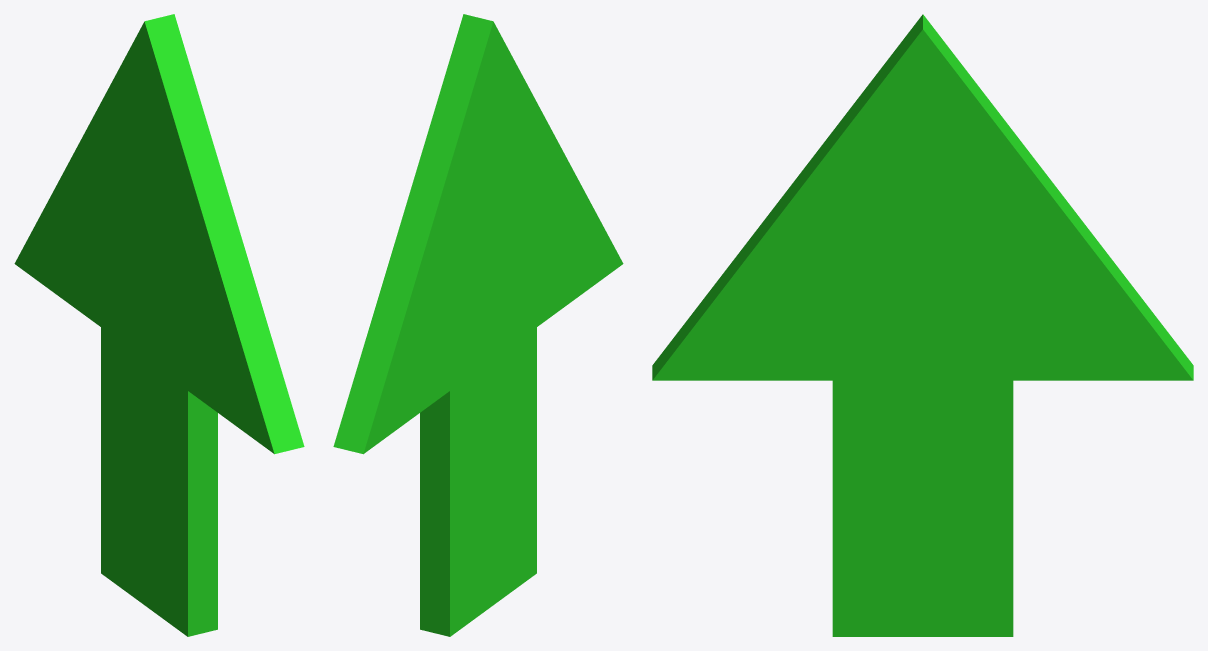
The model's file is green_arrow.glb.
3 views of the same model, side by side, from view 1: azimuth 30°, elevation 25°; view 2: azimuth 150°, elevation 25°; view 3: azimuth 270°, elevation 25° (orthographic). The views are drawn at different scales.
Parts seen in each view (by area): view 1: Cube.003; view 2: Cube.003; view 3: Cube.003.
Boxes of the visible parts, left/top/right/bottom form: Cube.003: left=14, top=14, right=304, bottom=636; Cube.003: left=333, top=14, right=623, bottom=636; Cube.003: left=652, top=14, right=1193, bottom=636.
Bounding box in the file's own units: 0.1332 × 2.48 × 2.
